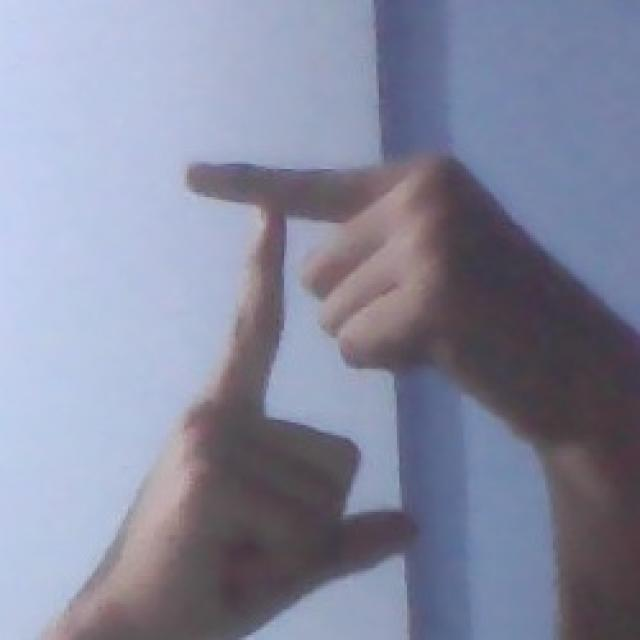Alphabet-T: (133, 146, 640, 640)
